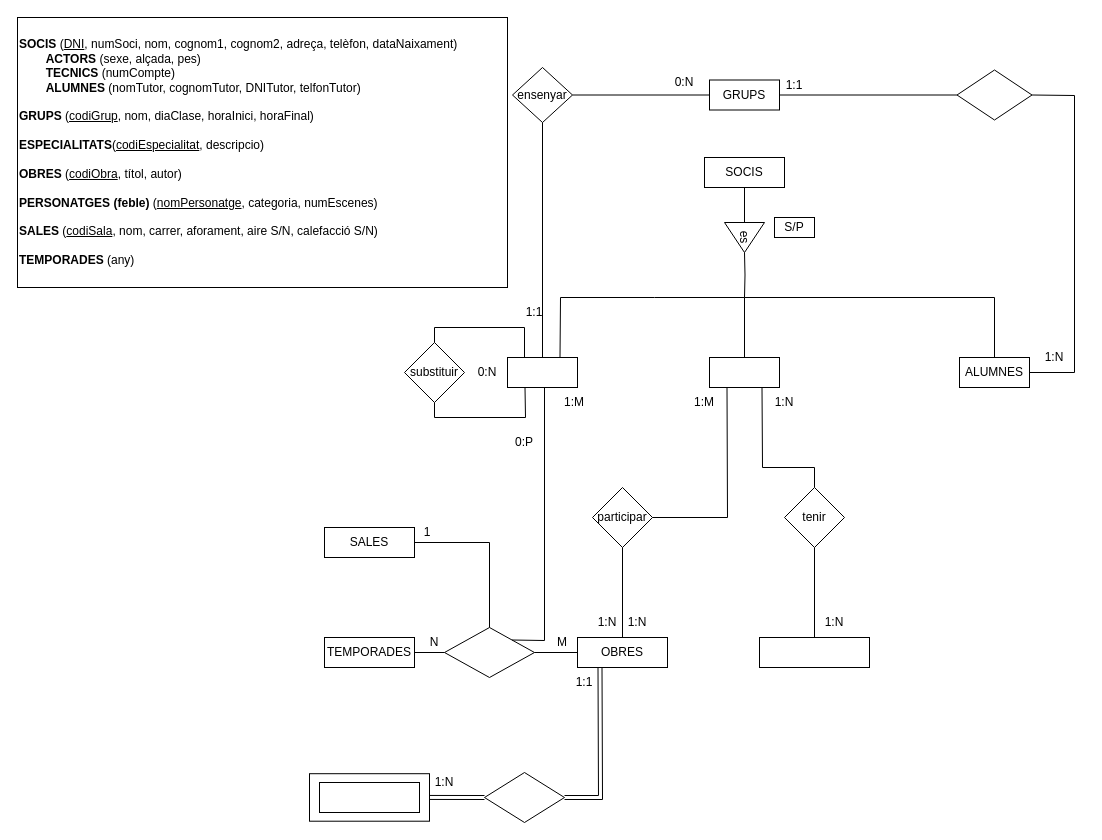
This 1102x840 diagram has some shape labels left out. Each missing label, with the centre of its shape:
"ACTORS" goes at pixel 542 372.
"ESPECIALITATS" goes at pixel 814 652.
"matricular" goes at pixel 994 94.
"PERSONATGES" goes at pixel 369 797.
"pertanyer" goes at pixel 524 797.
"representar" goes at pixel 489 652.
"TECNICS" goes at pixel 744 372.
